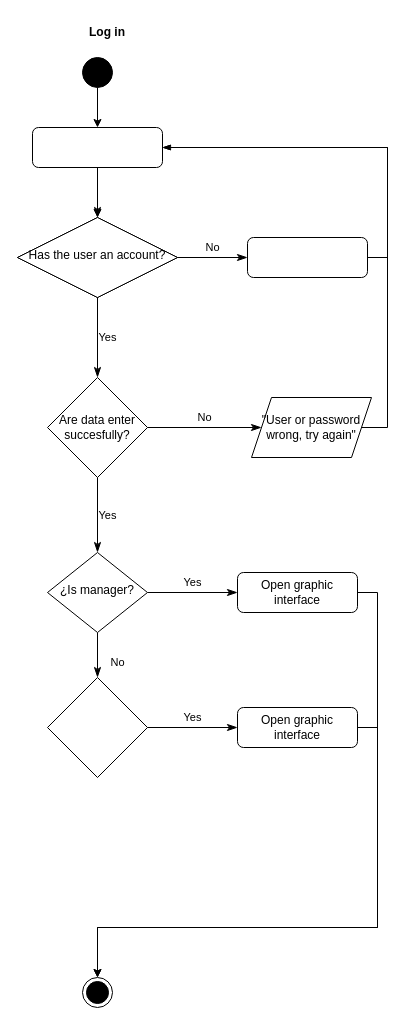
Some shapes in this 413 by 1025 pixel diagram are drawn without their labels. The box of each missing label's shape, as (x1, y1, x2, y2) in pixels:
"Create an account, try again": (246, 236, 368, 278)
Is user?: (46, 676, 148, 778)
User log in: (32, 126, 162, 168)
